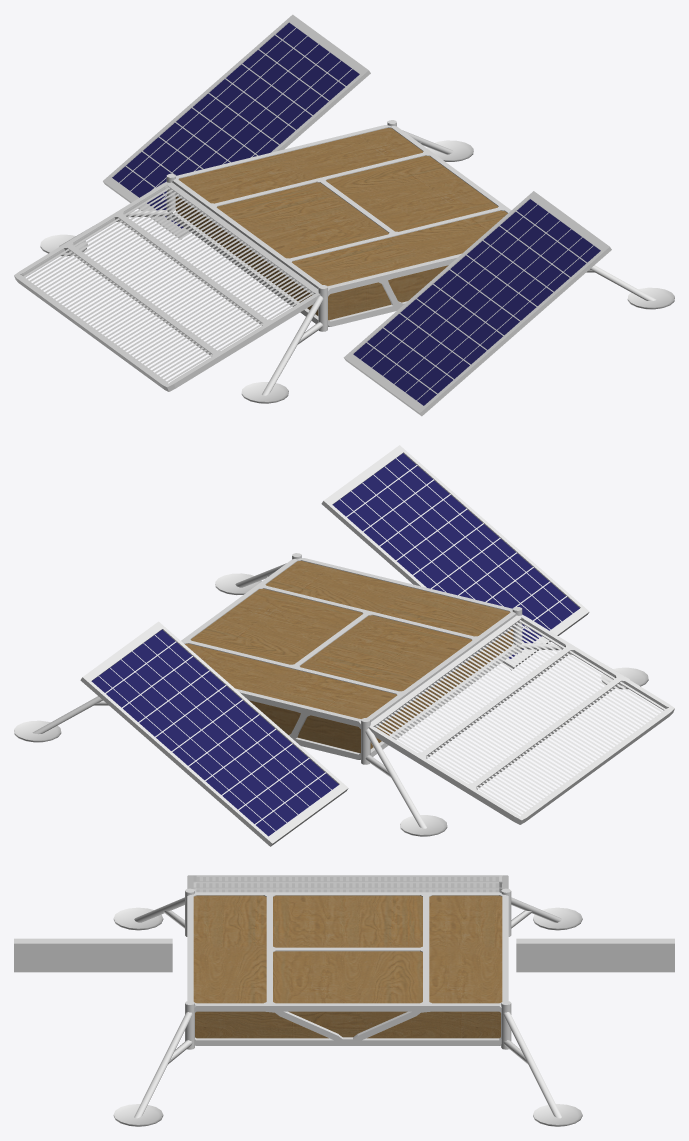
Rendered from lander.fbx.
The picture shows the model from 3 angles, top to bottom: view 1: azimuth 30°, elevation 25°; view 2: azimuth 150°, elevation 25°; view 3: azimuth 270°, elevation 25°; orthographic projection. The views are drawn at different scales.
Visible parts, largest first — view 1: Cube.028; view 2: Cube.028; view 3: Cube.028.
Part boxes in pixels (x1,y1,x2,y2): Cube.028: (14, 14, 674, 416); Cube.028: (14, 445, 674, 846); Cube.028: (14, 875, 674, 1126).
Size of the model in its own units: 369 by 90.83 by 421.
